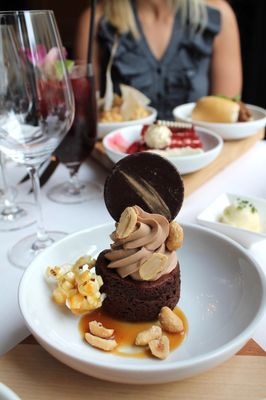sushi: (177, 95, 266, 141)
